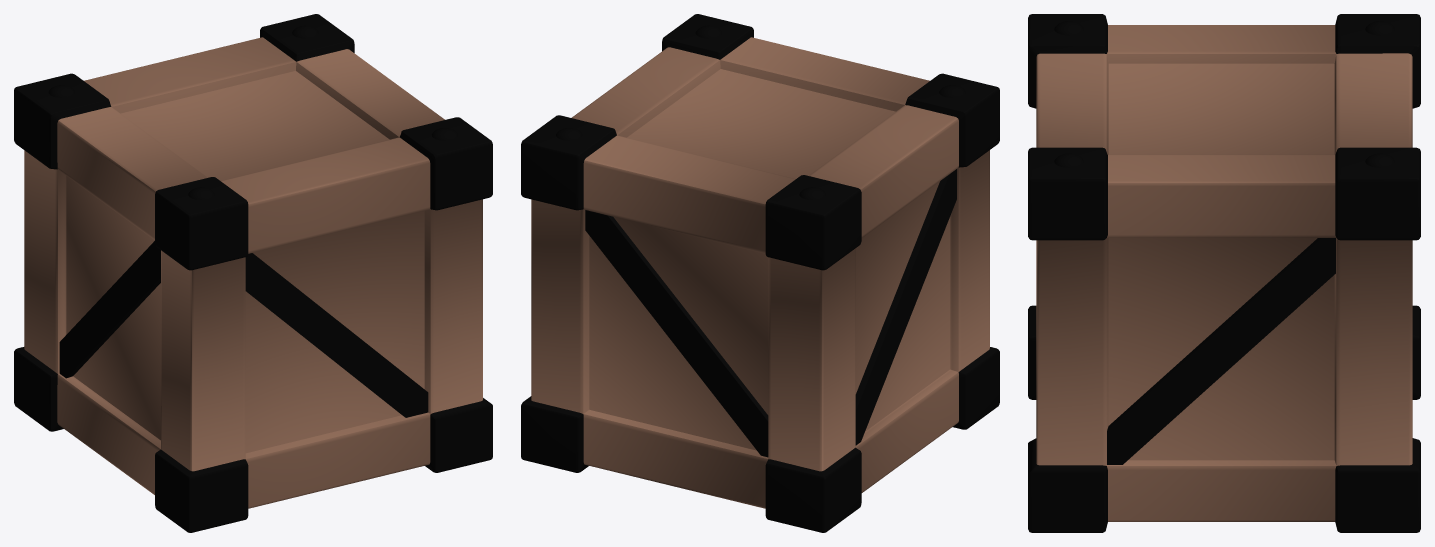
File: SM_WoodBox_1.fbx
3 renders of one model, left to right at view 1: azimuth 30°, elevation 25°; view 2: azimuth 150°, elevation 25°; view 3: azimuth 270°, elevation 25°, orthographic. The views are drawn at different scales.
Parts seen in each view (by area): view 1: Wooden_Box_2; view 2: Wooden_Box_2; view 3: Wooden_Box_2.
Part boxes in pixels (x1,y1,x2,y2): Wooden_Box_2: [14, 14, 492, 532]; Wooden_Box_2: [521, 14, 999, 532]; Wooden_Box_2: [1028, 14, 1420, 532].
Size of the model in its own units: 0.68 by 0.7039 by 0.68.
